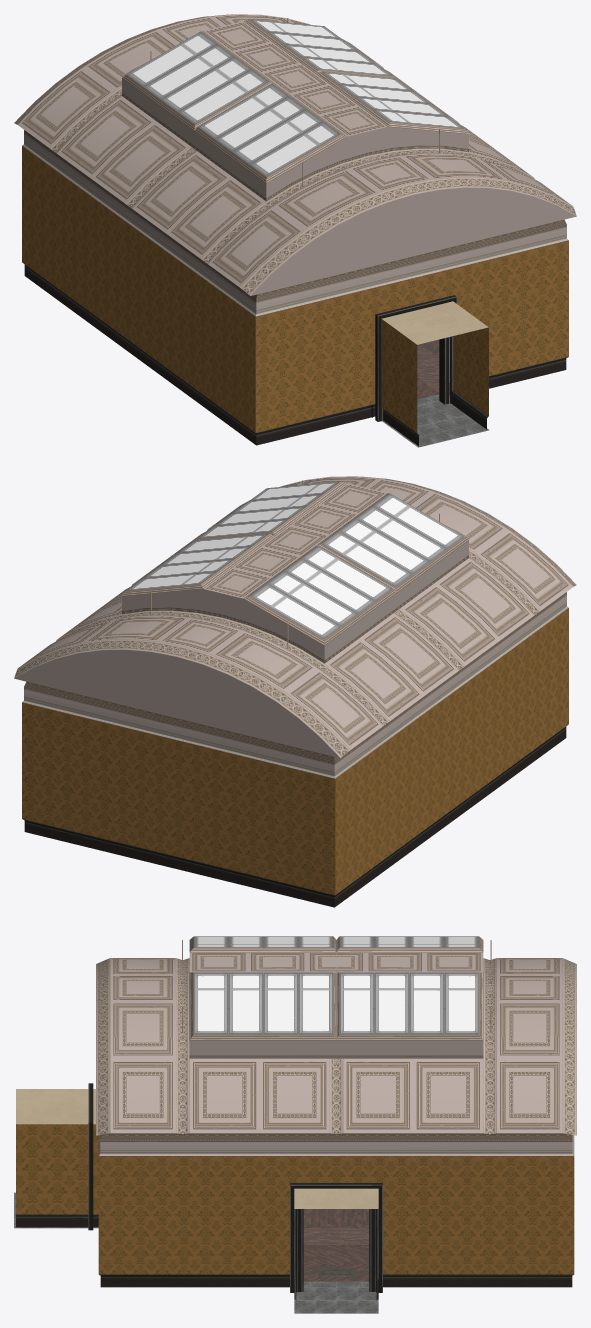
File: Room_01.dae
3 views of the same model, one above another, from view 1: azimuth 30°, elevation 25°; view 2: azimuth 150°, elevation 25°; view 3: azimuth 270°, elevation 25° (orthographic).
Parts seen in each view (by area): view 1: Room_01 (×9); view 2: Room_01 (×6); view 3: Room_01 (×10).
Boxes of the visible parts, x1,y1,x2,y2 form: Room_01 (×9): (14,14,576,447); Room_01 (×6): (14,476,576,907); Room_01 (×10): (14,936,576,1313).
Bounding box in the file's own units: 2195 × 1380 × 2811.
16 materials, 16 textured.
